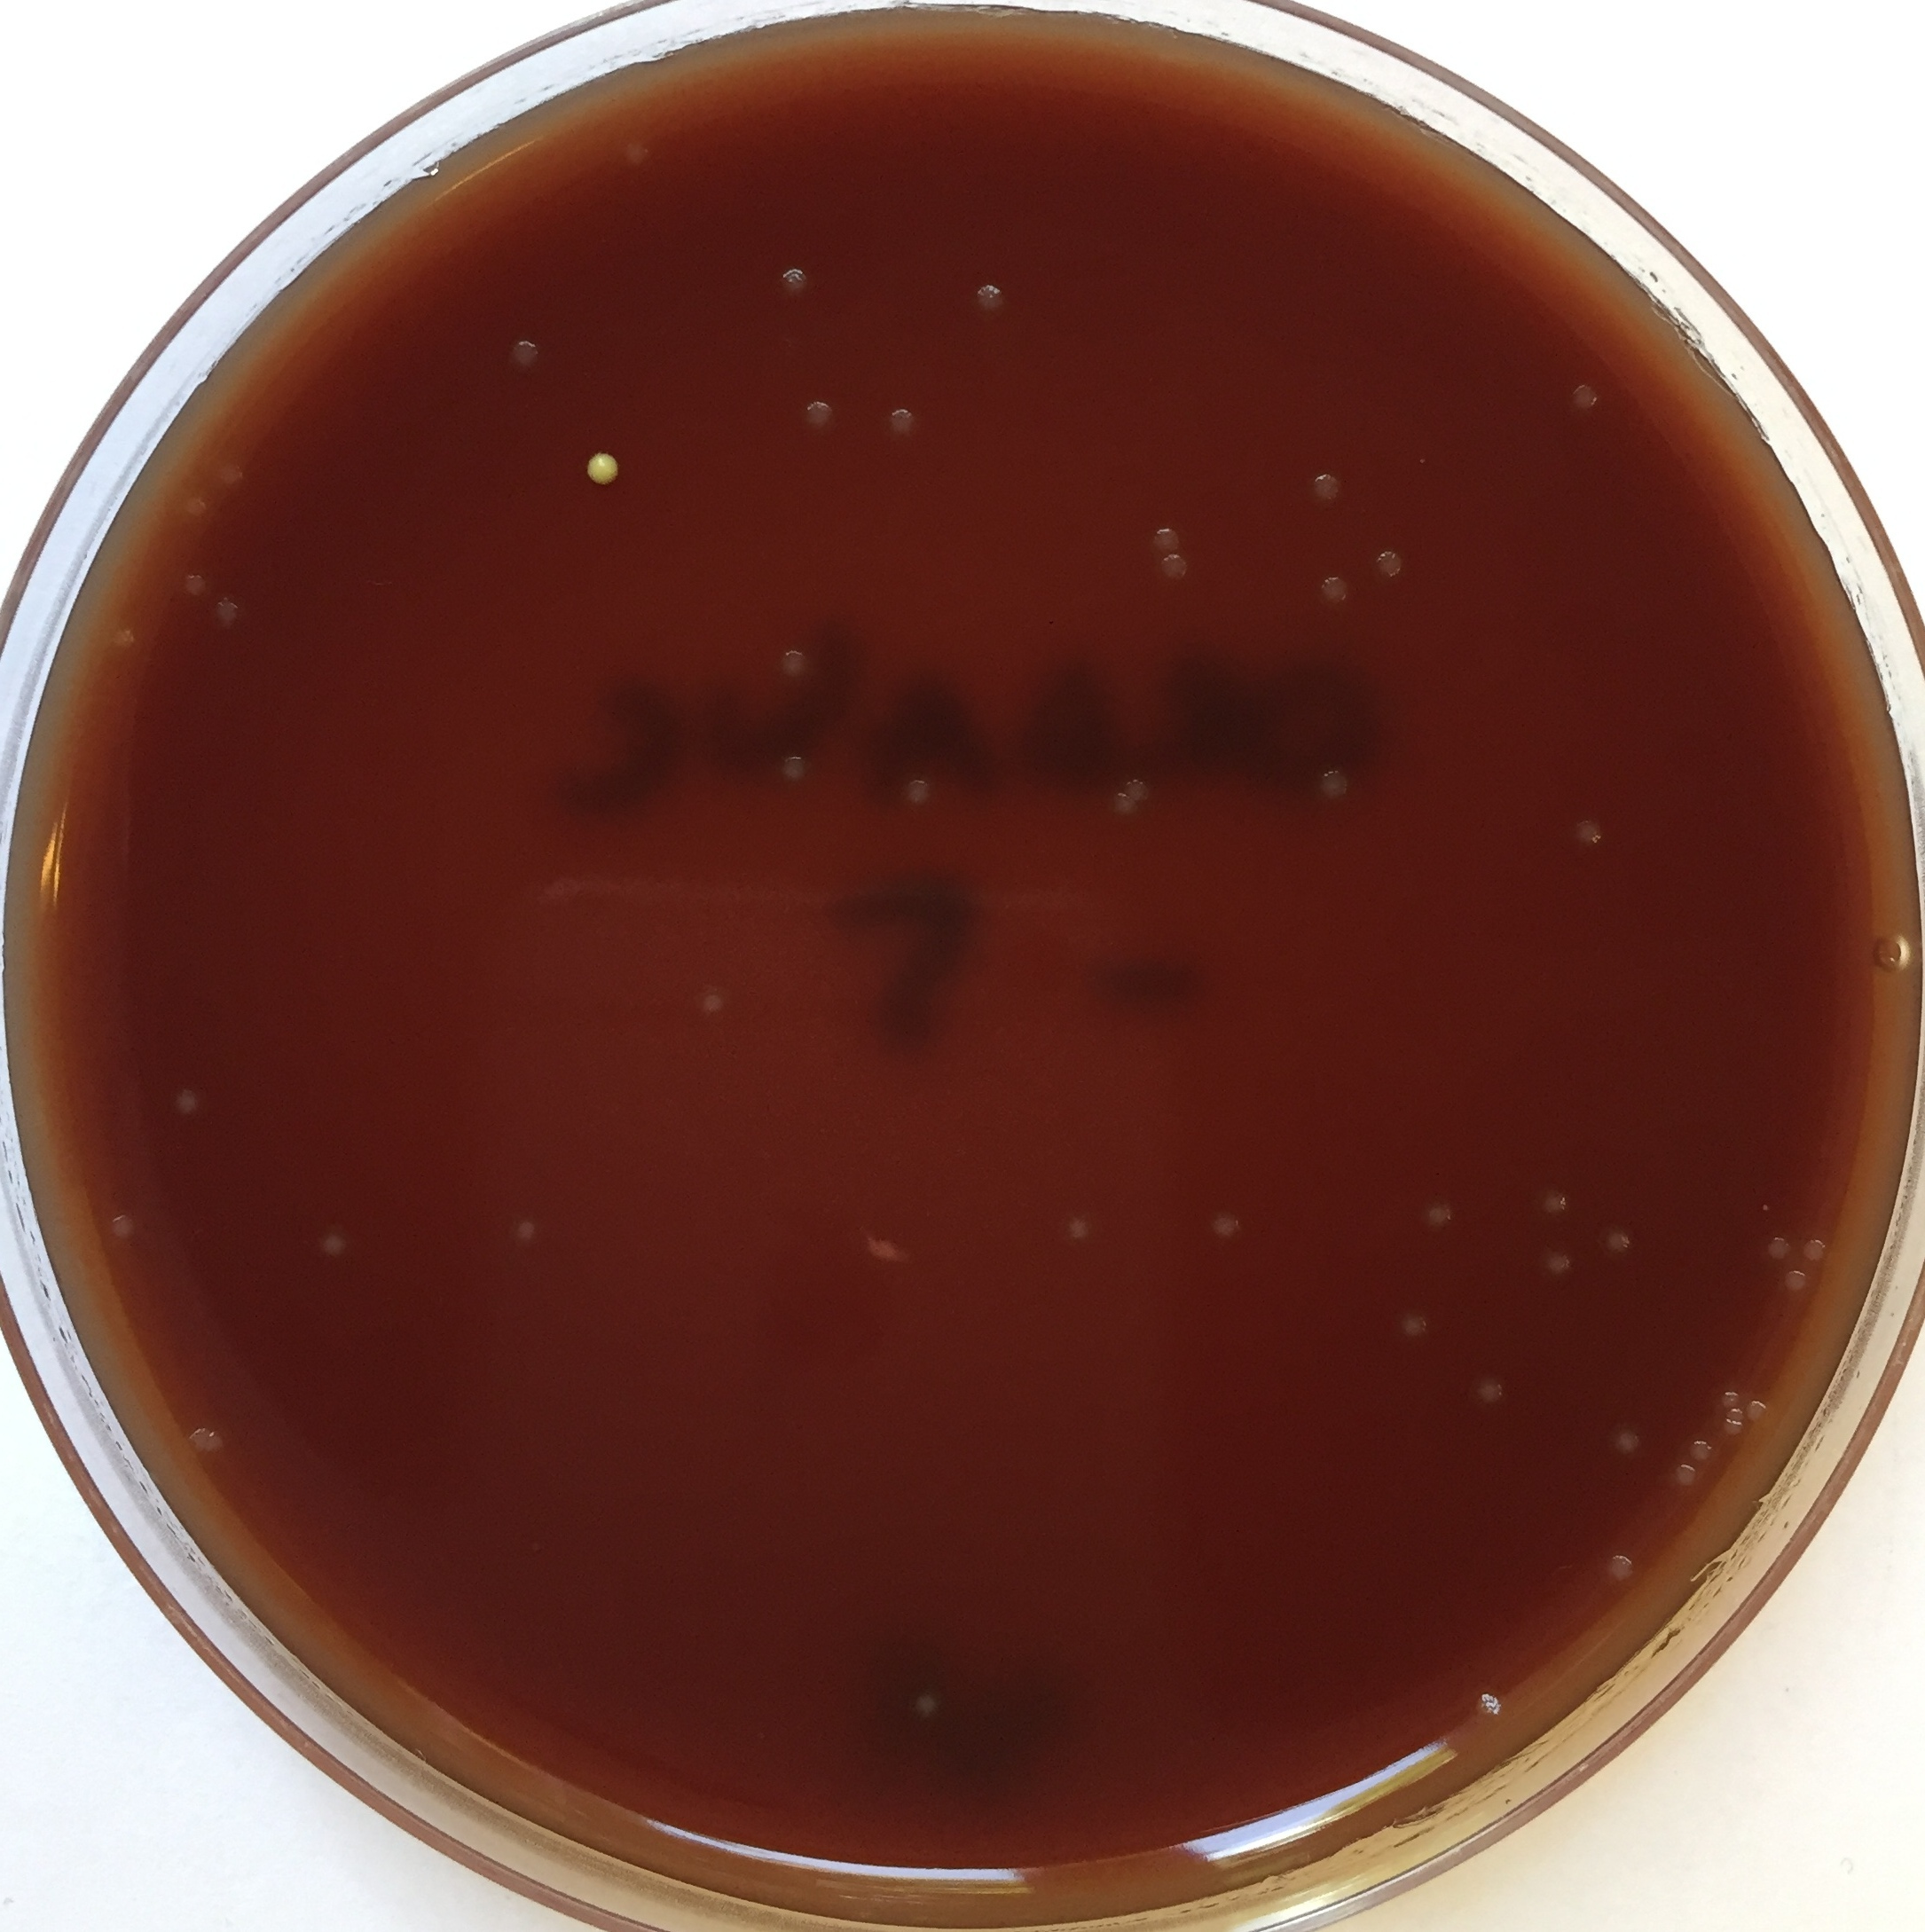sp10: (153, 1072, 219, 1135), (307, 1223, 375, 1280), (686, 977, 744, 1042), (1301, 760, 1364, 816), (790, 384, 843, 451), (892, 765, 947, 829), (874, 397, 933, 451), (1548, 809, 1608, 862), (1562, 374, 1613, 430), (176, 1416, 231, 1465), (93, 1199, 146, 1248), (1460, 1678, 1523, 1719), (1155, 552, 1206, 601), (1299, 467, 1354, 513), (605, 134, 661, 178), (1597, 1213, 1643, 1266), (769, 629, 811, 686), (1371, 538, 1421, 585), (495, 1207, 543, 1257), (1597, 1541, 1645, 1590), (1414, 1197, 1465, 1241), (1306, 571, 1356, 615), (763, 746, 811, 790), (1204, 1206, 1248, 1252), (903, 1687, 945, 1733), (502, 333, 543, 379), (1135, 516, 1186, 552), (1609, 1419, 1645, 1470), (765, 263, 814, 298), (971, 282, 1012, 323), (1394, 1306, 1440, 1341), (1468, 1371, 1507, 1410), (1059, 1207, 1093, 1250), (210, 457, 249, 492), (206, 592, 242, 629), (1800, 1229, 1833, 1266), (1534, 1186, 1574, 1216), (176, 569, 213, 599), (1542, 1243, 1571, 1282), (102, 626, 136, 658), (1669, 1463, 1701, 1495), (1761, 1232, 1795, 1262), (1780, 1266, 1809, 1297), (1125, 772, 1153, 802), (183, 492, 213, 520), (1107, 790, 1133, 820), (1743, 1394, 1768, 1426), (1687, 1438, 1713, 1463), (1721, 1419, 1743, 1440), (1724, 1407, 1747, 1424), (1719, 1389, 1738, 1407)
